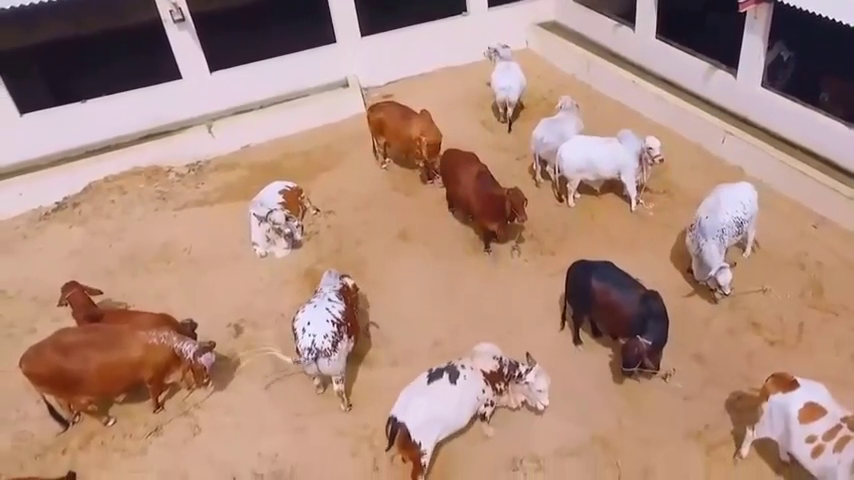bo: (14, 315, 221, 426), (390, 323, 546, 466), (548, 251, 683, 387), (724, 370, 854, 480), (434, 137, 537, 269), (676, 161, 770, 296), (291, 257, 364, 420), (43, 266, 207, 338), (559, 114, 667, 214), (236, 162, 324, 263), (354, 87, 442, 177), (484, 34, 530, 142), (531, 89, 581, 177)
